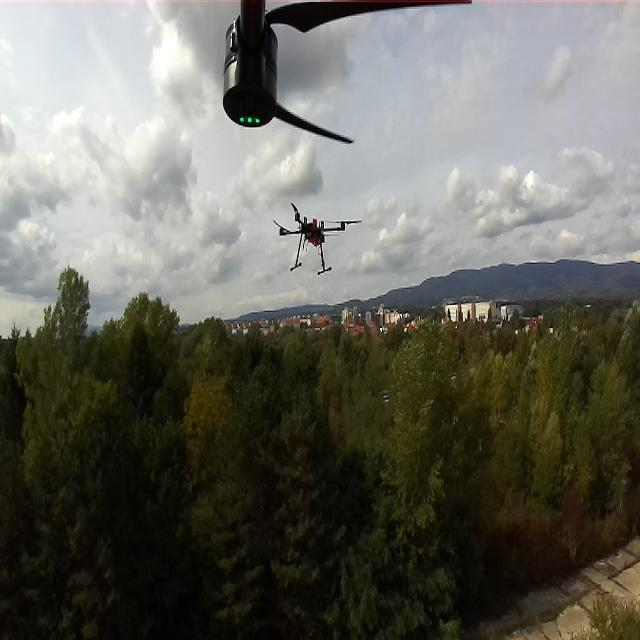UAV: (266, 201, 364, 277)
